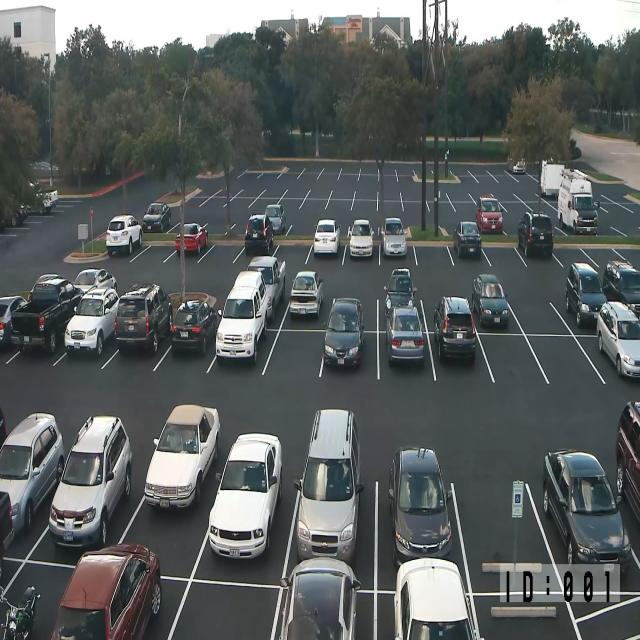car: (48, 414, 132, 548), (293, 407, 364, 564), (542, 449, 632, 570), (50, 543, 162, 639), (208, 431, 282, 560), (0, 411, 65, 538), (144, 404, 220, 510), (388, 445, 452, 566), (270, 556, 361, 639), (394, 557, 484, 639), (10, 274, 84, 354), (216, 270, 270, 363), (114, 281, 172, 354), (64, 286, 119, 356), (596, 300, 640, 378), (615, 399, 640, 523), (323, 296, 365, 368), (433, 295, 476, 363), (565, 262, 607, 327), (171, 298, 217, 356), (247, 256, 286, 322), (558, 171, 598, 235), (384, 304, 425, 365), (0, 585, 41, 639), (602, 259, 640, 317), (472, 274, 509, 327), (518, 210, 554, 258), (289, 270, 323, 318), (383, 267, 417, 315), (106, 214, 142, 255), (0, 294, 26, 346), (0, 490, 15, 576), (74, 268, 118, 296), (244, 212, 273, 254), (475, 195, 503, 234), (175, 222, 208, 255), (454, 220, 482, 258), (348, 218, 374, 258), (313, 218, 341, 255), (381, 217, 406, 256), (142, 202, 171, 232), (264, 203, 286, 235), (11, 203, 28, 226), (0, 407, 8, 453), (30, 160, 58, 172), (512, 158, 526, 174)
